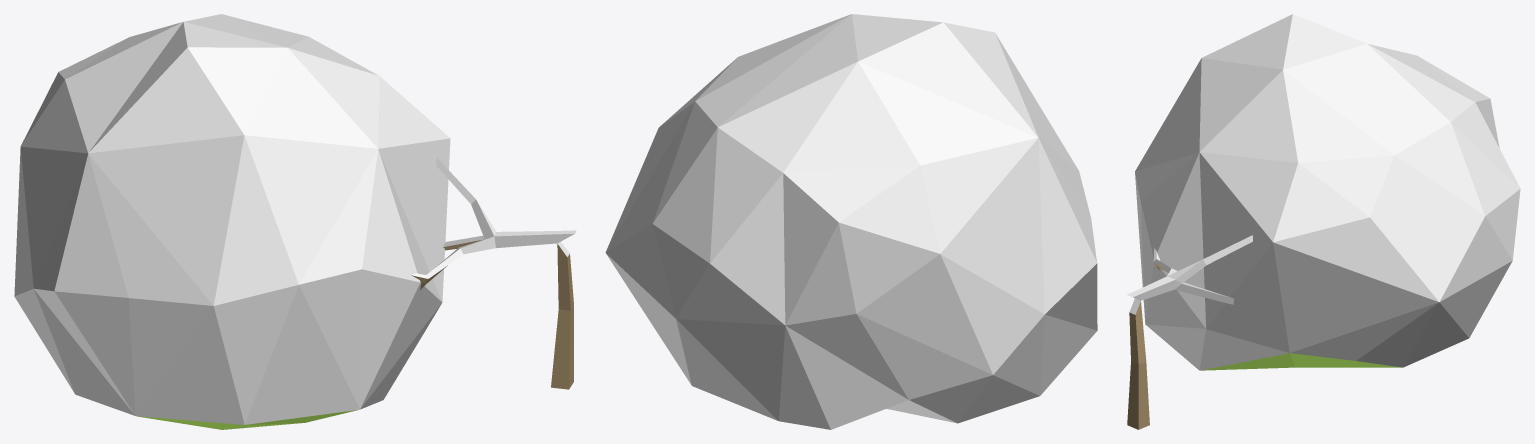
File: Apple_Tree_crk_s_Snow_BT_01.fbx
The picture shows the model from 3 angles, left to right: view 1: azimuth 30°, elevation 25°; view 2: azimuth 150°, elevation 25°; view 3: azimuth 270°, elevation 25°; orthographic projection. The views are drawn at different scales.
Visible parts, largest first — view 1: Apple_Tree_crk_s_Snow_BT_01; view 2: Apple_Tree_crk_s_Snow_BT_01; view 3: Apple_Tree_crk_s_Snow_BT_01.
Part boxes in pixels (x1,y1,x2,y2): Apple_Tree_crk_s_Snow_BT_01: (14,14,576,429); Apple_Tree_crk_s_Snow_BT_01: (605,14,1097,429); Apple_Tree_crk_s_Snow_BT_01: (1126,14,1520,429).
Bounding box in the file's own units: 228 × 177 × 208.
